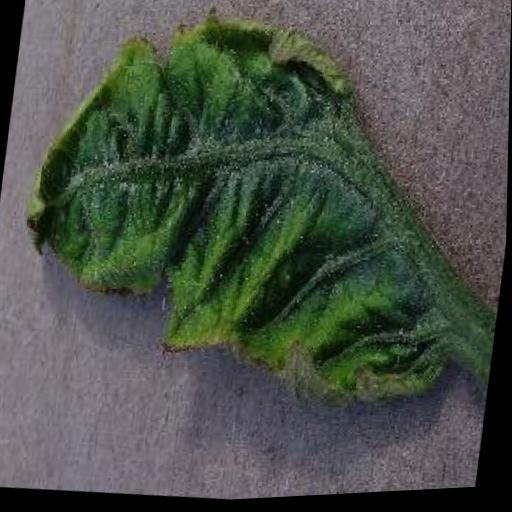Yellow Leaf Curl Virus: (4, 0, 498, 427)
